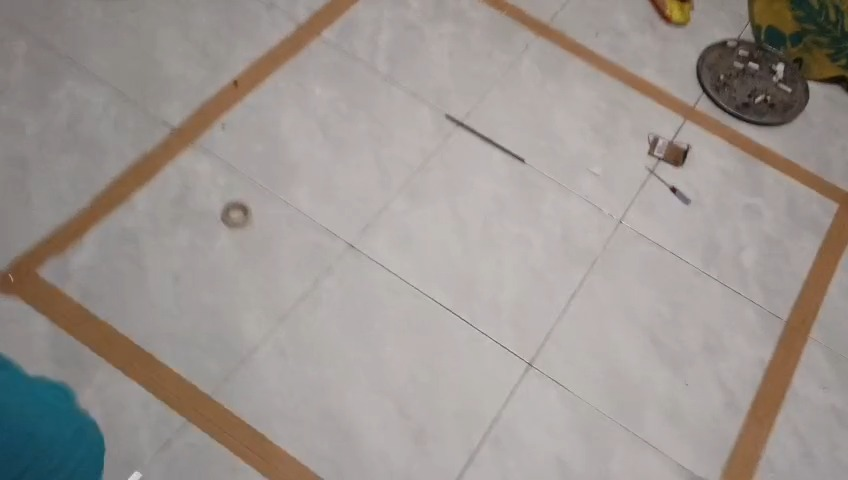floor marking: (481, 0, 847, 479), (0, 0, 357, 479)
